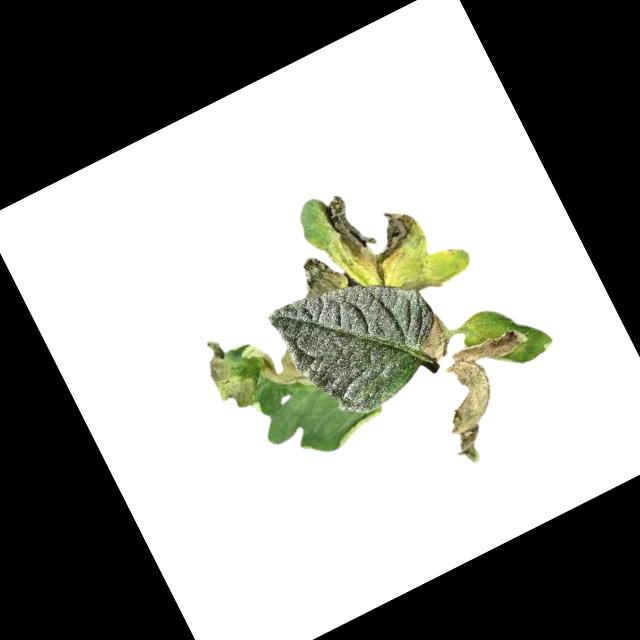Late_blight: (417, 318, 568, 469), (310, 161, 436, 286), (194, 326, 275, 427), (244, 327, 314, 407), (289, 244, 350, 305), (395, 252, 457, 303), (408, 313, 455, 366)
